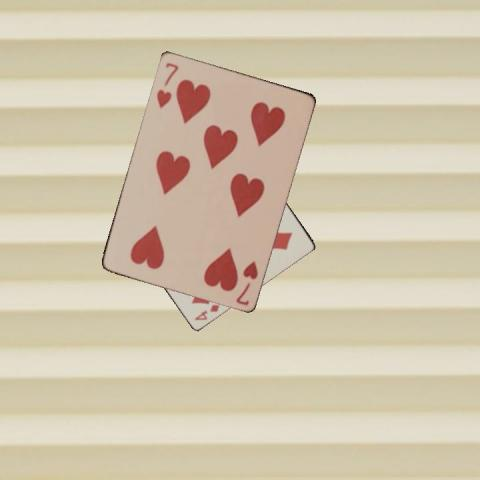4d: (191, 301, 221, 322)
7h: (153, 59, 180, 109), (233, 258, 259, 307)
